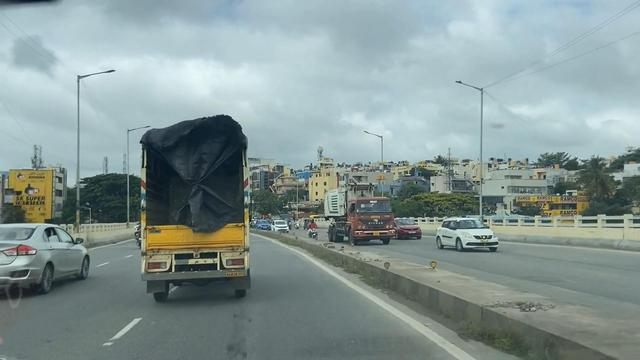HMV: (136, 110, 254, 304), (320, 183, 382, 241)
